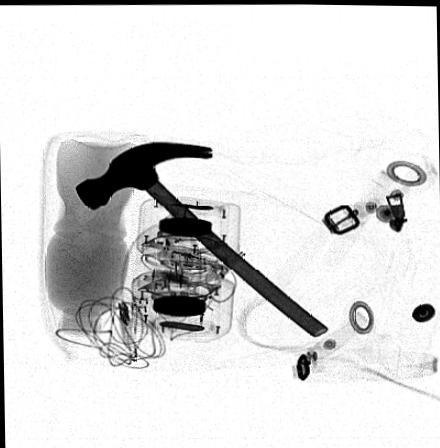Hammer: (73, 139, 327, 336)
